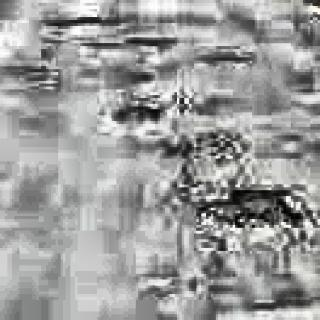pothole: (191, 183, 309, 234), (111, 102, 163, 125), (124, 36, 176, 48), (206, 51, 252, 63)
